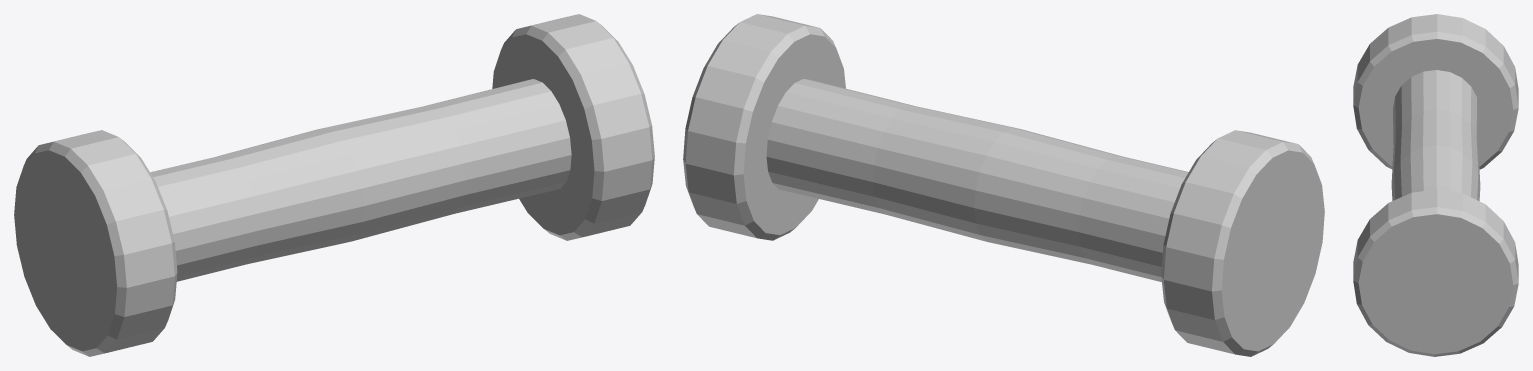
Rendered from ChromeDumbbells.005.fbx.
3 renders of one model, left to right at view 1: azimuth 30°, elevation 25°; view 2: azimuth 150°, elevation 25°; view 3: azimuth 270°, elevation 25°, orthographic. The views are drawn at different scales.
Parts seen in each view (by area): view 1: ChromeDumbblells.006; view 2: ChromeDumbblells.006; view 3: ChromeDumbblells.006.
Part boxes in pixels (x1,y1,x2,y2): ChromeDumbblells.006: (14, 14, 654, 356); ChromeDumbblells.006: (683, 14, 1324, 356); ChromeDumbblells.006: (1353, 14, 1518, 356).
Bounding box in the file's own units: 14.03 × 5 × 4.98.
